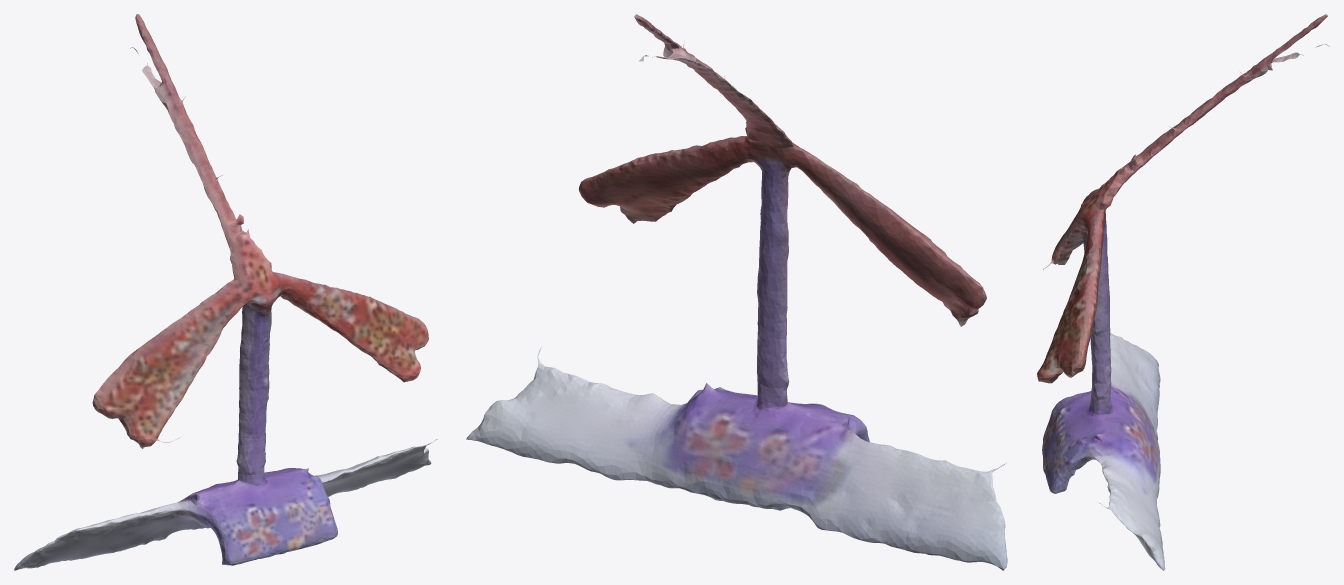
Rendered from bamboo_odonata.glb.
3 renders of one model, left to right at view 1: azimuth 30°, elevation 25°; view 2: azimuth 150°, elevation 25°; view 3: azimuth 270°, elevation 25°, orthographic. The views are drawn at different scales.
Bounding box in the file's own units: 1.08 × 1.11 × 0.6409.
1 material, 1 textured.
